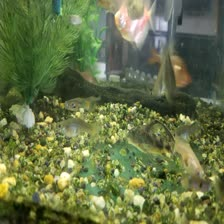Guppy: (46, 110, 113, 144), (171, 136, 208, 180), (59, 87, 104, 114)
Kiros: (122, 116, 177, 156)
